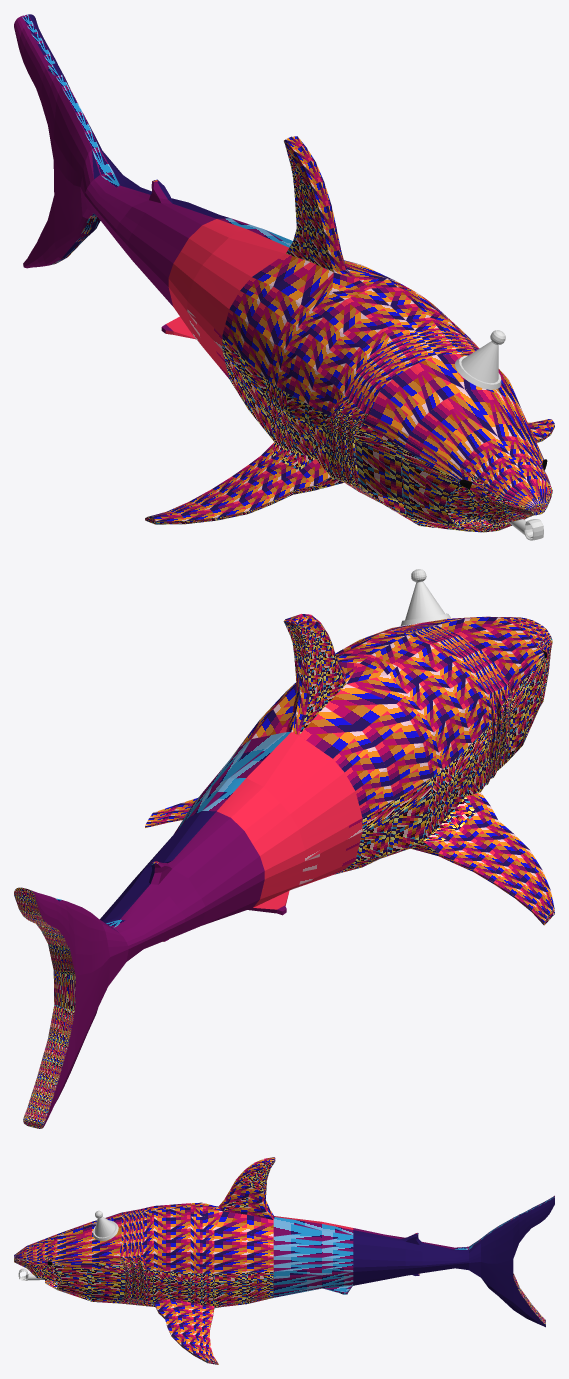
File: shark2.glb
3 views of the same model, one above another, from view 1: azimuth 30°, elevation 25°; view 2: azimuth 150°, elevation 25°; view 3: azimuth 270°, elevation 25° (orthographic). The views are drawn at different scales.
Parts seen in each view (by area): view 1: pCube1 pCube1SmoothProxyGroup, birthdayHat_GEO; view 2: pCube1 pCube1SmoothProxyGroup, birthdayHat_GEO; view 3: pCube1 pCube1SmoothProxyGroup, birthdayHat_GEO.
Part boxes in pixels (x1,y1,x2,y2): pCube1 pCube1SmoothProxyGroup: (14,14,554,532); birthdayHat_GEO: (455,330,505,389); pCube1 pCube1SmoothProxyGroup: (14,614,554,1128); birthdayHat_GEO: (400,569,450,625); pCube1 pCube1SmoothProxyGroup: (14,1157,554,1364); birthdayHat_GEO: (92,1210,118,1240).
Bounding box in the file's own units: 2.6 × 1.99 × 5.8.
1 material, 1 textured.
